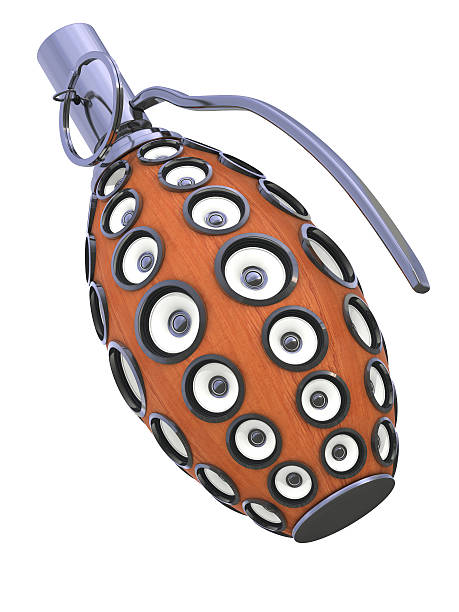e1: (35, 20, 433, 542)
